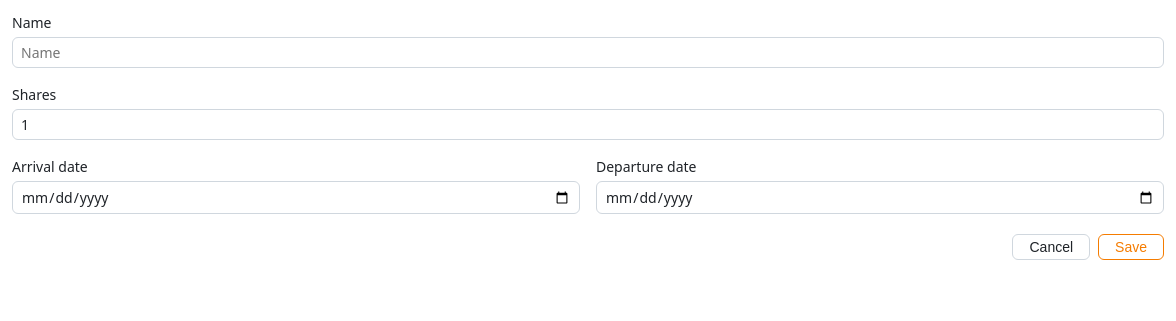
Test: PersonForm › shows validation errors when saving with empty fields
Click the button "Save". click: (1131, 247)
box: [1098,234,1164,260]
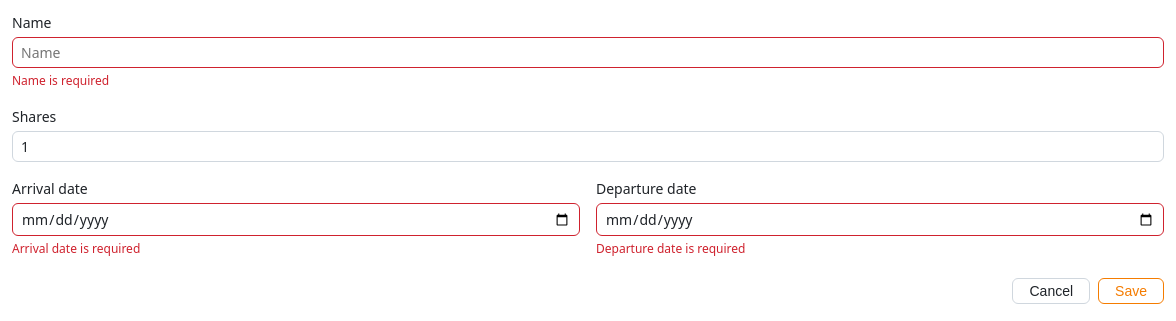
Expected: the text "Name is required" is shown, [12,72,109,89]
